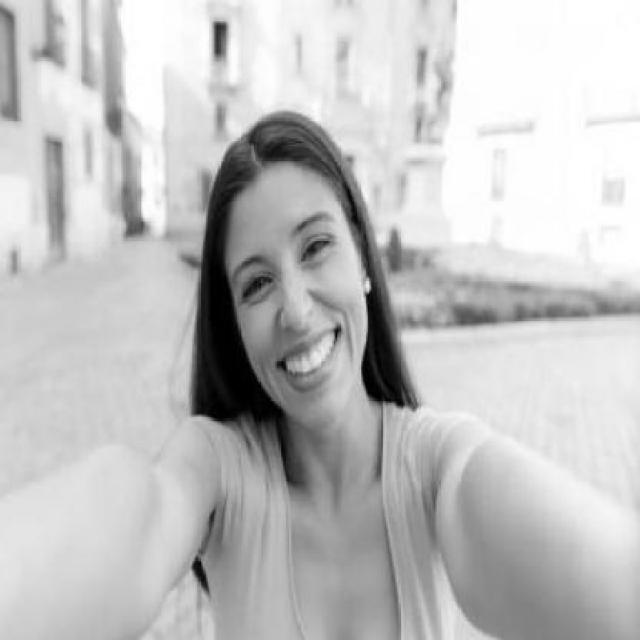happy: (237, 210, 346, 396)
